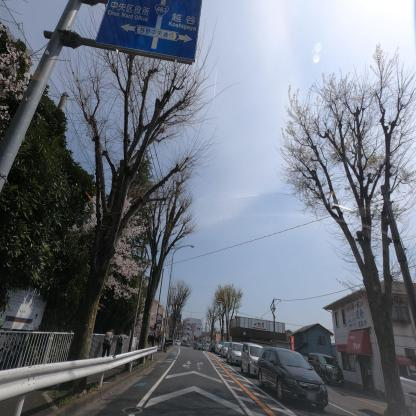Someiyoshino: (83, 180, 147, 305), (132, 296, 163, 339)
